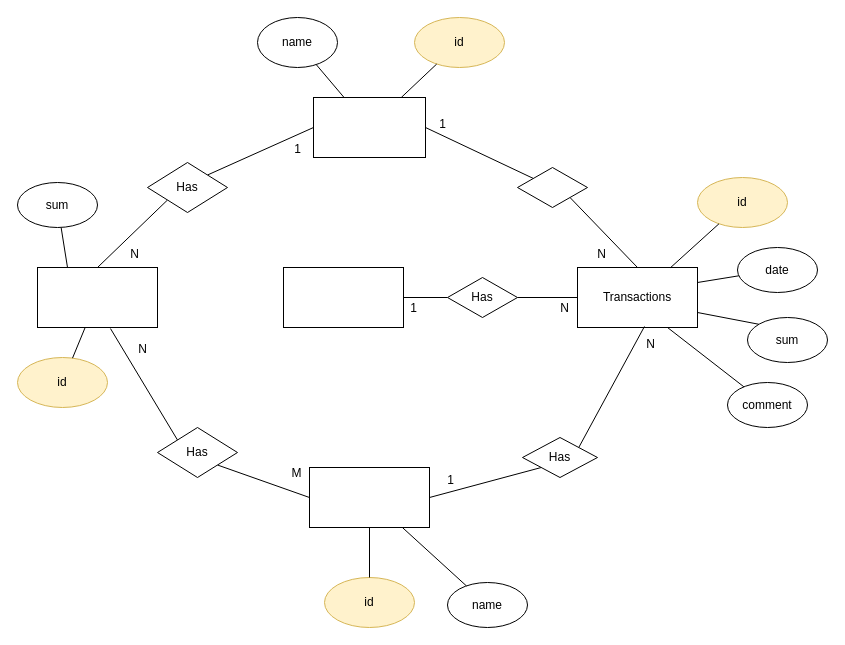
Some shapes in this 845 by 645 pixel diagram are drawn without their labels. The centre of each missing label's shape, as x and y in pixels:
"Account" goes at (x=369, y=127).
"Category" goes at (x=343, y=297).
"Currency" goes at (x=369, y=497).
"StartBalance" goes at (x=97, y=297).
"Uses" goes at (x=552, y=187).
